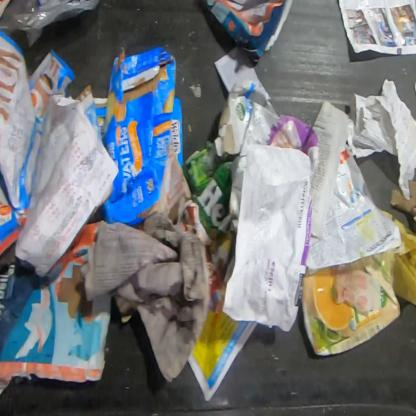cardboard: (74, 44, 193, 226), (300, 249, 402, 357), (184, 139, 239, 268), (199, 0, 296, 65), (213, 78, 258, 156), (389, 179, 415, 223)
soft_plastic: (0, 0, 102, 48)
